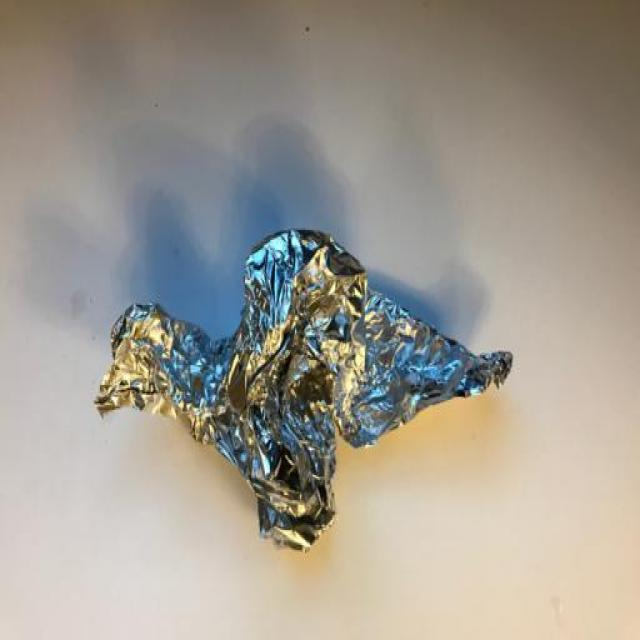others: (70, 218, 552, 607)
